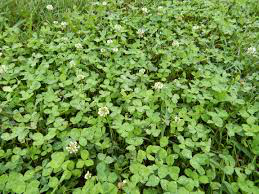clover: (1, 1, 259, 190)
